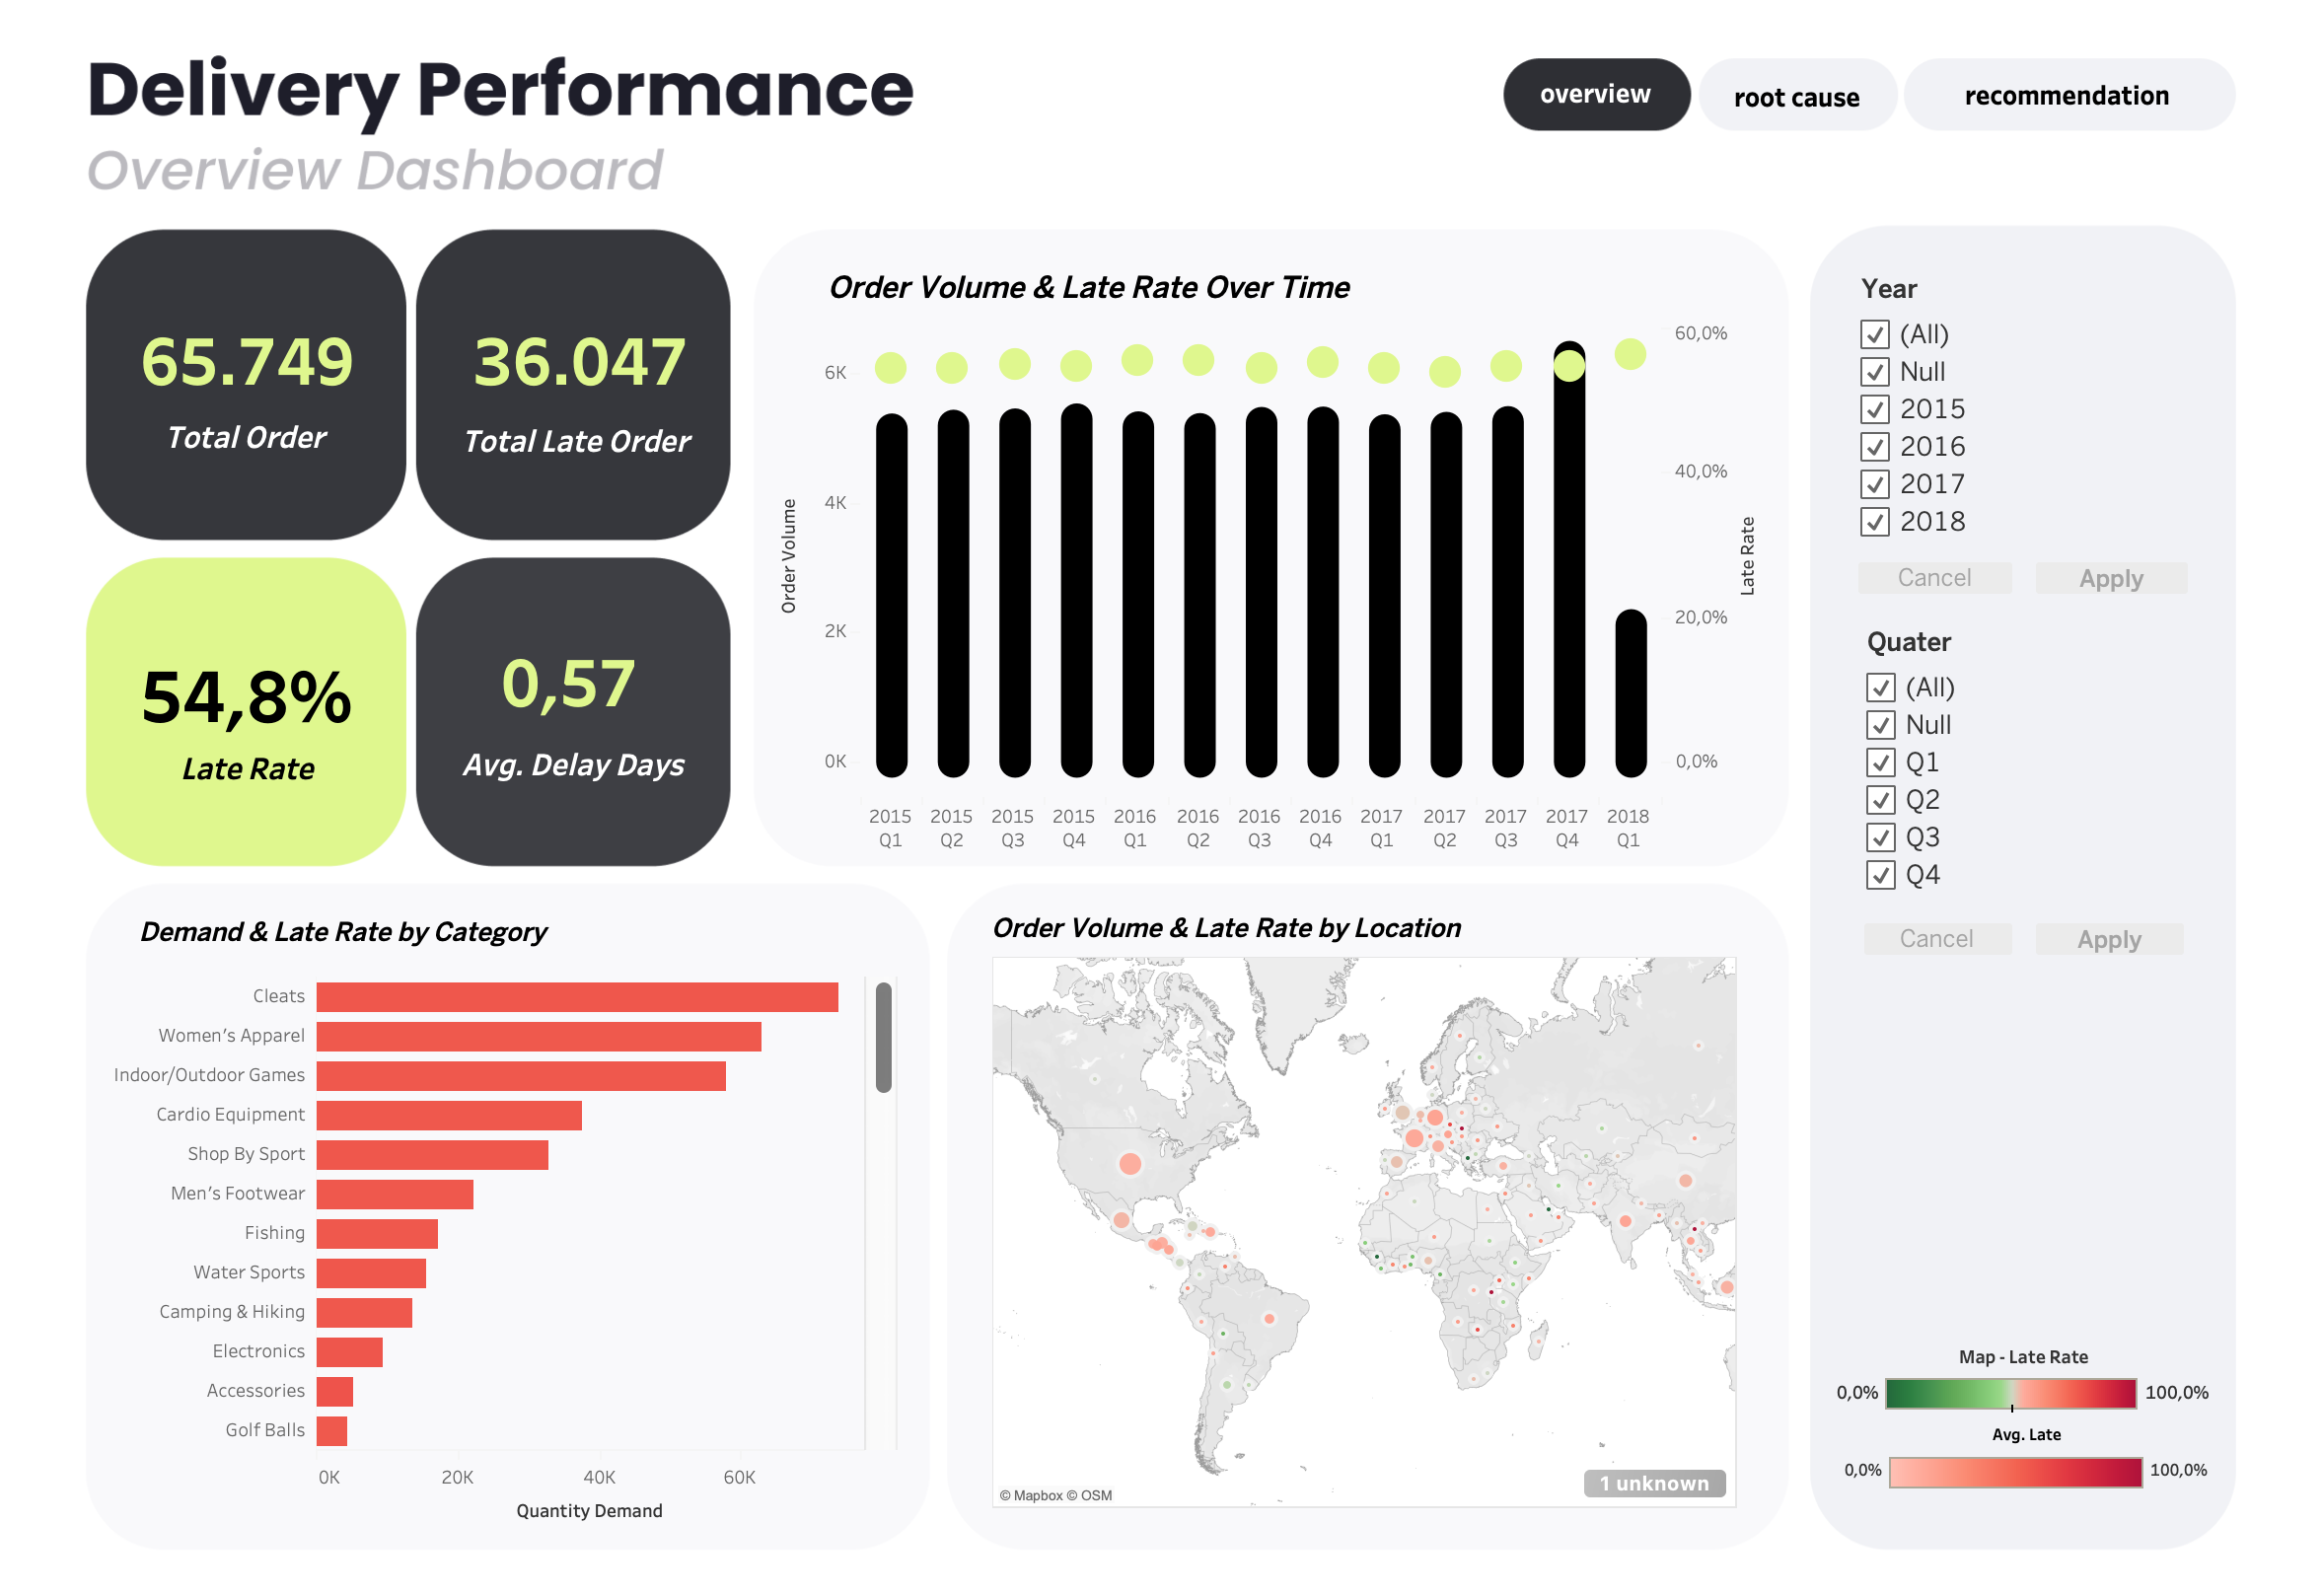

The page's visual inventory and layout, read from the dashboard file:
{"tool":"tableau","page":{"name":"overview","canvas":[1169,827],"ordinal":0},"visuals":[{"type":"image","param":"Image/overview@2x.png","box":[0,0,1169,827]},{"type":"dashboard-object","box":[967,34,155,52]},{"type":"dashboard-object","box":[853,35,109,52]},{"type":"text","box":[766,44,78,30]},{"type":"text","box":[413,143,442,30]},{"type":"filter","title":"Volume x Late","param":"[federated.0n7d3741qxccu314g811g052moyb].[yr:order_date:ok]","box":[933,151,177,165]},{"type":"worksheet","title":"KPI - Late Order","mark":"Automatic","box":[229,172,135,46]},{"type":"worksheet","title":"Volume x Late","mark":"Bar","rows":["Calculation_2420642270912515"],"cols":["order_date"],"box":[382,174,506,282]},{"type":"worksheet","title":"KPI - Total Order","mark":"Automatic","box":[62,175,143,55]},{"type":"text","box":[42,216,158,35]},{"type":"text","box":[210,217,157,37]},{"type":"filter","title":"Volume x Late","param":"[federated.0n7d3741qxccu314g811g052moyb].[qr:order_date:ok]","box":[936,330,172,169]},{"type":"worksheet","title":"KPI - AVG Delay","mark":"Automatic","box":[244,335,93,54]},{"type":"worksheet","title":"KPI - Late Rate","mark":"Automatic","box":[60,339,125,56]},{"type":"text","box":[208,382,158,35]},{"type":"text","box":[43,385,158,33]},{"type":"text","box":[496,468,319,30]},{"type":"text","box":[64,470,348,30]},{"type":"worksheet","title":"Late Map","mark":"Automatic","box":[499,497,378,280]},{"type":"worksheet","title":"Category Late","mark":"Automatic","rows":["category_name"],"cols":["quantity"],"box":[36,507,415,277]},{"type":"legend","title":"Late Map","param":"[federated.0n7d3741qxccu314g811g052moyb].[usr:Calculation_2420642270912515:qk]","box":[923,693,198,54]},{"type":"legend","title":"Category Late","param":"[federated.0n7d3741qxccu314g811g052moyb].[usr:Calculation_2420642270912515:qk]","box":[927,733,193,46]}]}

Visuals, with their boxes in screenshot pixels (x1, y1, x2, y2), scaled from the page's 1169x827 canvas onto the 2322x1596 screenshot:
image: 0 0 2321 1595
dashboard-object: 1921 66 2228 166
dashboard-object: 1695 67 1911 168
text: 1521 85 1677 143
text: 821 276 1699 333
"Volume x Late" filter: 1853 291 2205 610
"KPI - Late Order" worksheet: 455 332 723 421
"Volume x Late" worksheet (Bar marks): 759 335 1764 880
"KPI - Total Order" worksheet: 123 337 407 444
text: 84 417 398 484
text: 417 419 729 490
"Volume x Late" filter: 1859 637 2201 963
"KPI - AVG Delay" worksheet: 484 646 670 751
"KPI - Late Rate" worksheet: 119 654 368 762
text: 413 737 727 805
text: 86 743 399 807
text: 985 904 1619 961
text: 127 907 819 965
"Late Map" worksheet: 991 959 1742 1499
"Category Late" worksheet: 71 979 896 1513
"Late Map" legend: 1834 1338 2226 1441
"Category Late" legend: 1842 1415 2224 1503
